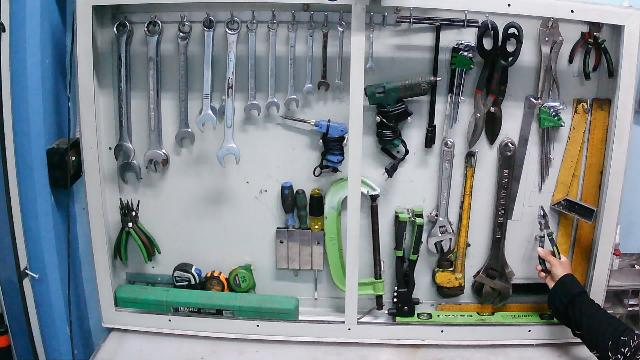tang_kombinasi: (528, 203, 565, 275)
